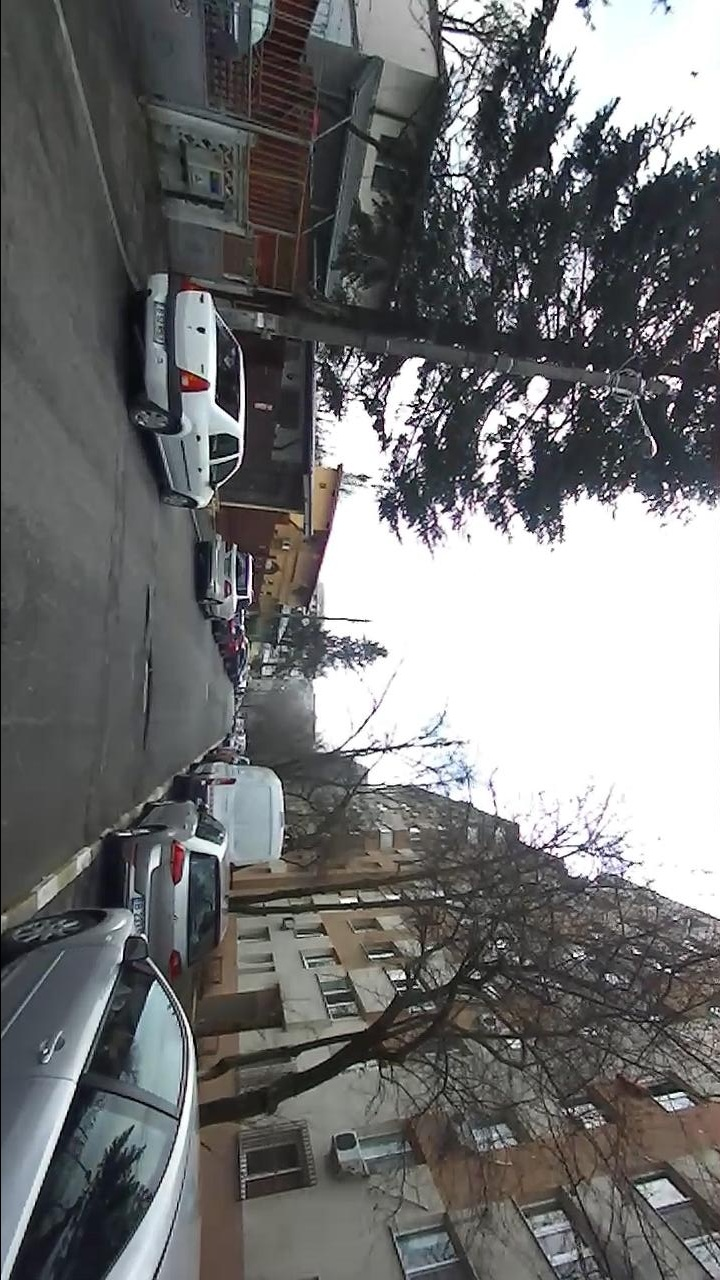pothole: (142, 658, 153, 748), (142, 586, 149, 636)
